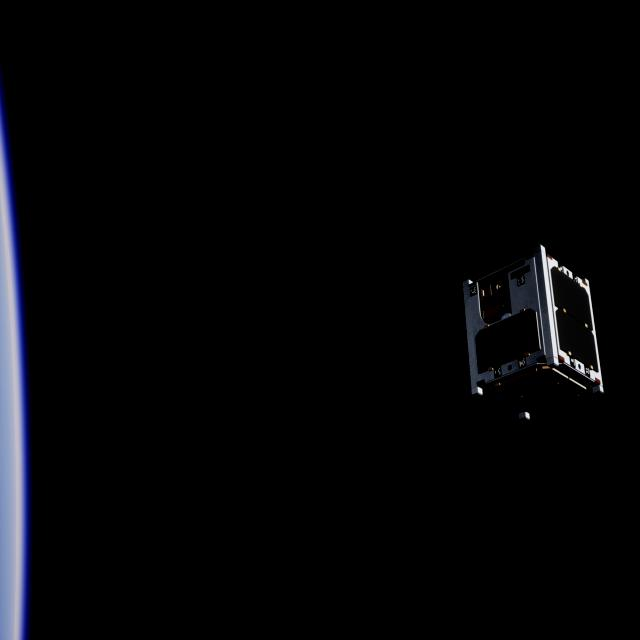satellite: (449, 240, 611, 430)
